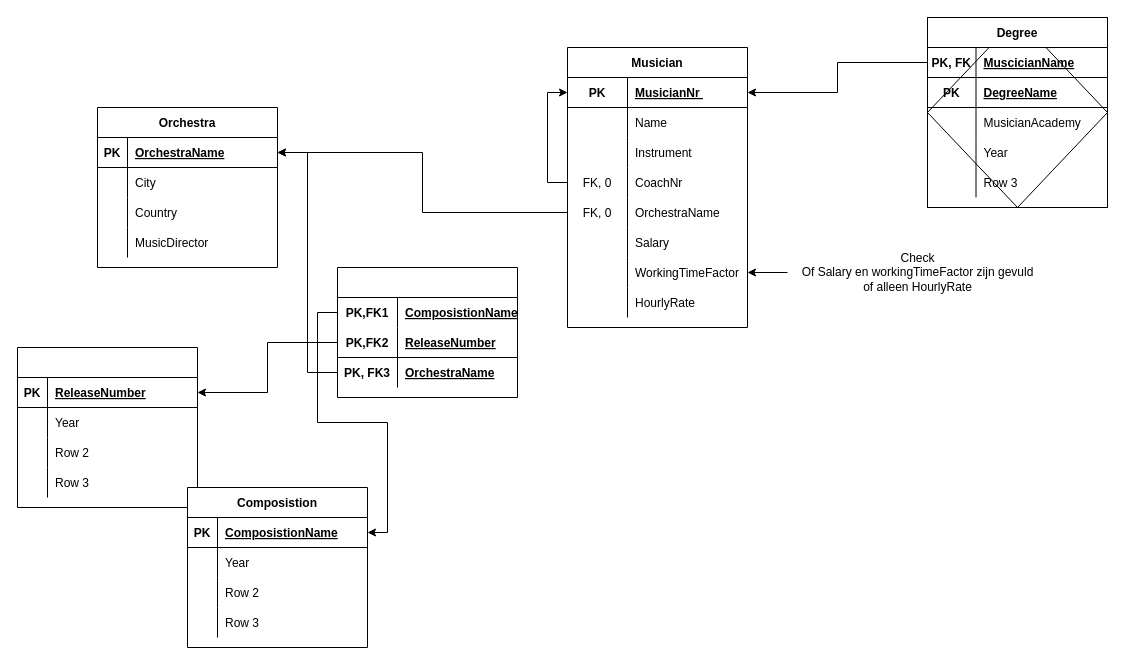
This 1125x665 diagram has some shape labels left out. The box of each missing label's shape, as (x1, y1, x2, y2) in pixels:
Recorded: (336, 266, 518, 398)
Recording: (16, 346, 198, 508)
